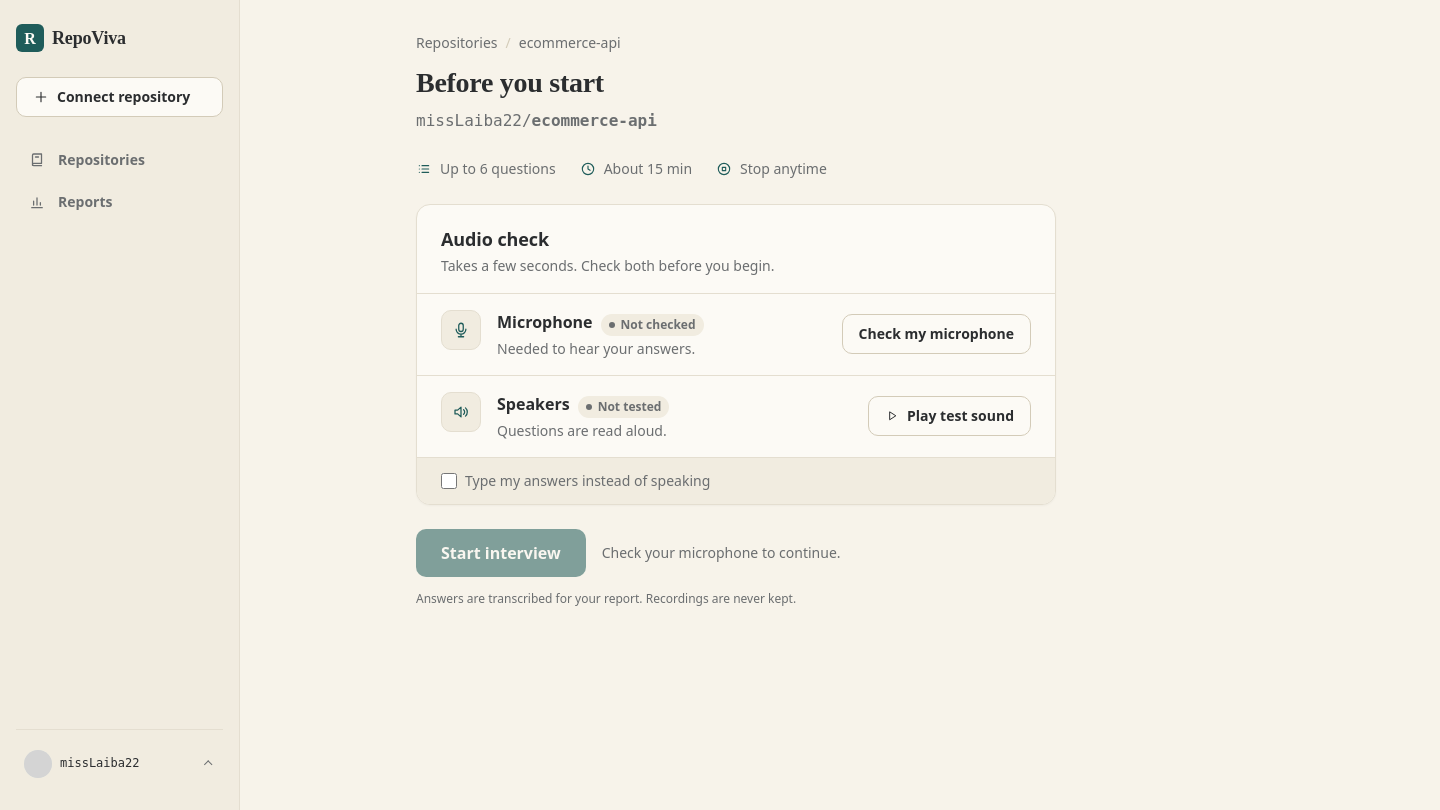
Test: interview setup › explains a blocked microphone and offers to type instead
Click the button "Check my microphone": (936, 334) x1=842 y1=314 x2=1031 y2=354
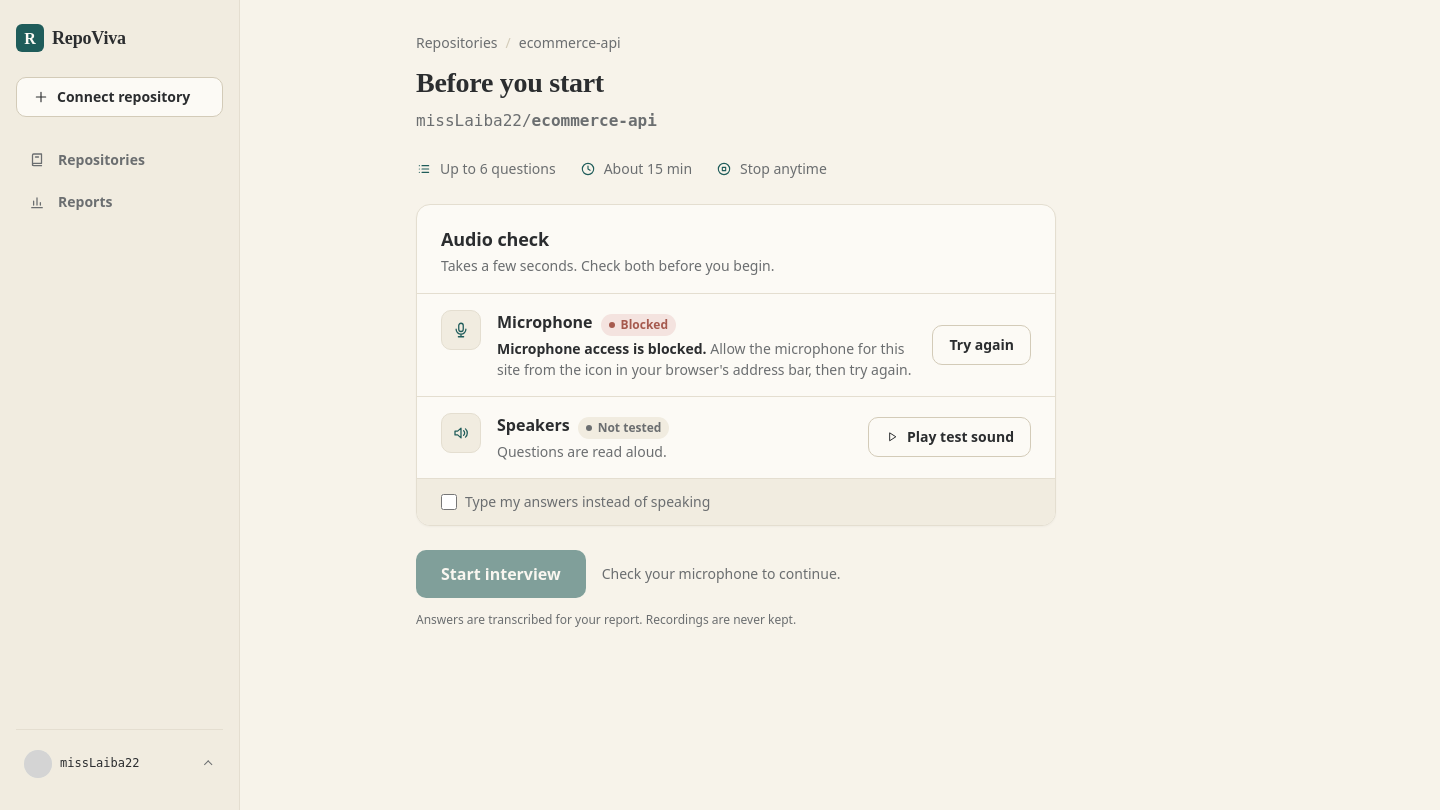
Now the text "Microphone access is blocked." is shown, box x1=497 y1=339 x2=707 y2=358
Click the checkbox labelled "Type my answers instead of speaking": (449, 502) x1=441 y1=494 x2=457 y2=510
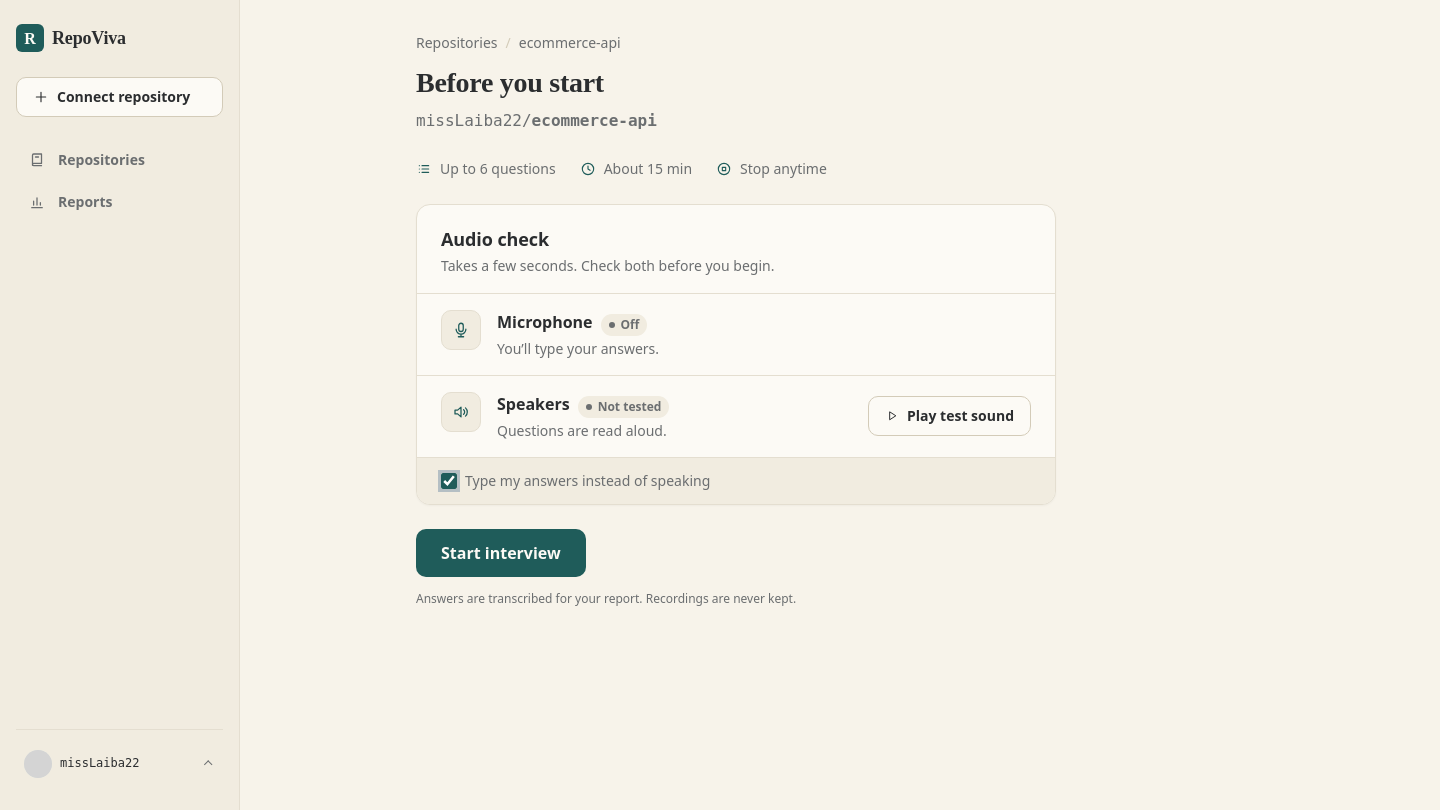
Now the button "Start interview" is enabled, box x1=416 y1=529 x2=586 y2=577
